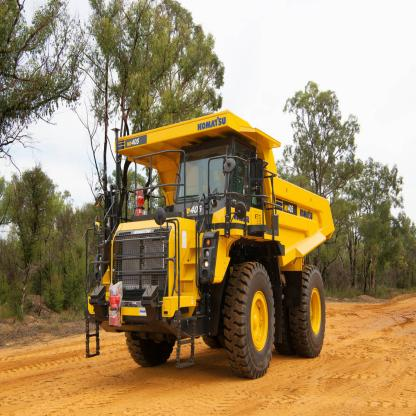dump_truck: (90, 120, 339, 378)
